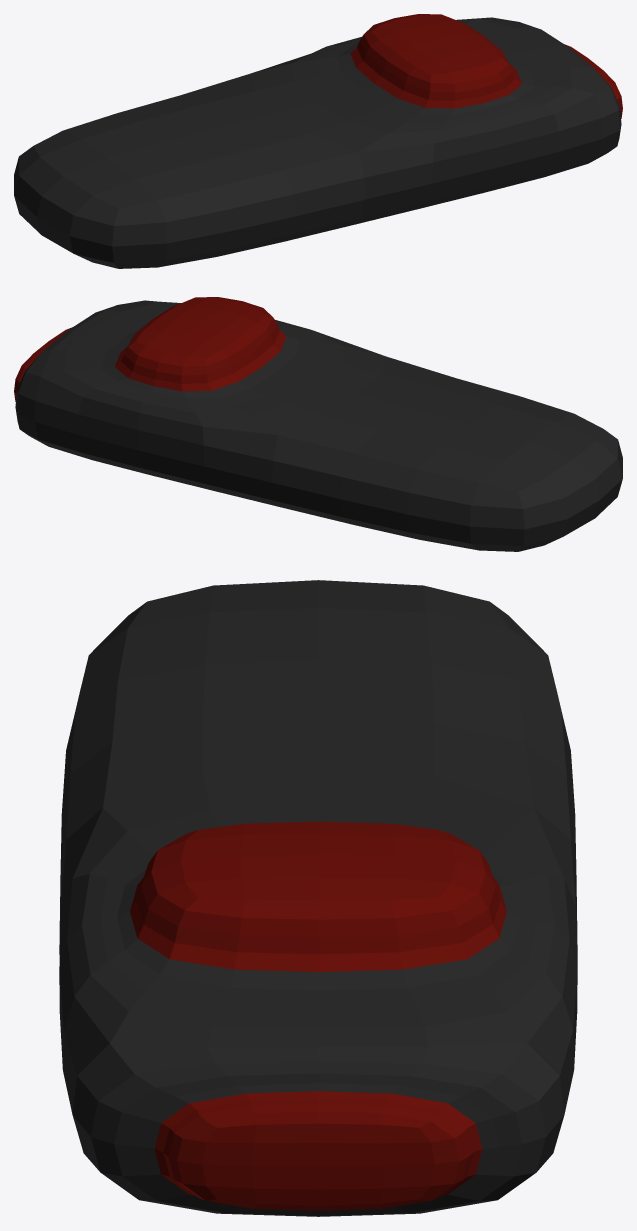
The model's file is TVremote.fbx.
3 views of the same model, one above another, from view 1: azimuth 30°, elevation 25°; view 2: azimuth 150°, elevation 25°; view 3: azimuth 270°, elevation 25° (orthographic). The views are drawn at different scales.
Visible parts, largest first — view 1: TVremote01; view 2: TVremote01; view 3: TVremote01.
Part boxes in pixels (x1=…): TVremote01: x1=14, y1=14, x2=622, y2=268; TVremote01: x1=14, y1=297, x2=622, y2=551; TVremote01: x1=59, y1=580, x2=577, y2=1216.
Size of the model in its own units: 19.72 by 4.22 by 7.95.
